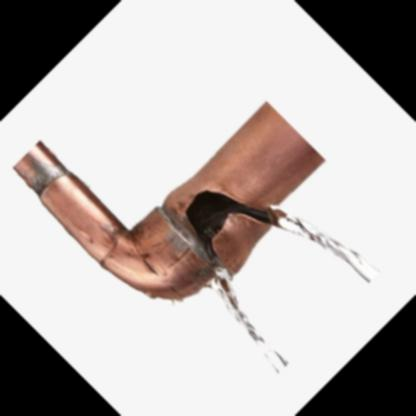burst: (161, 180, 303, 299)
